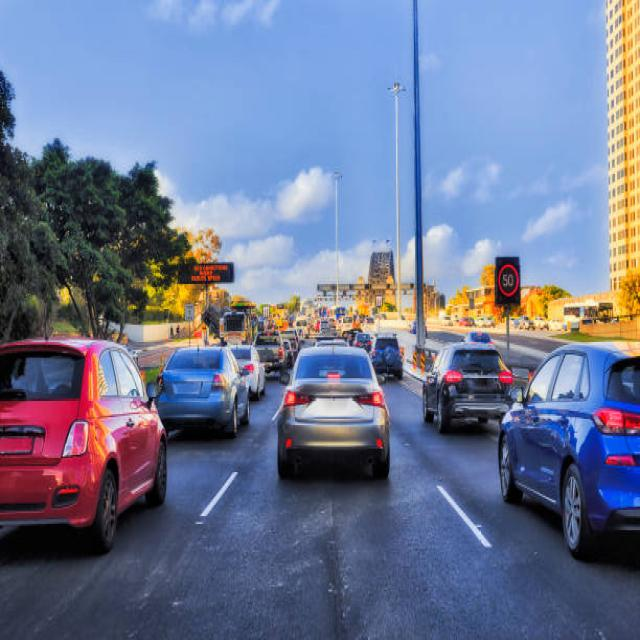Ad-signs: (176, 260, 234, 284), (494, 254, 520, 306)
Car: (0, 335, 167, 550), (497, 341, 639, 558), (274, 340, 390, 480), (155, 345, 250, 438), (422, 340, 514, 433)
